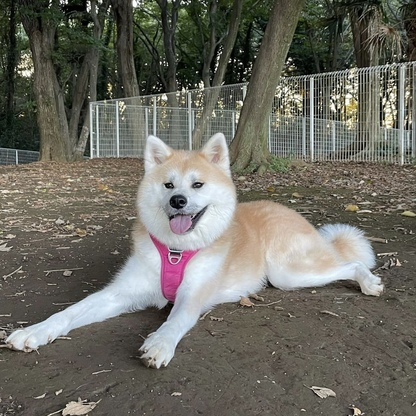akita: (2, 123, 392, 376)
